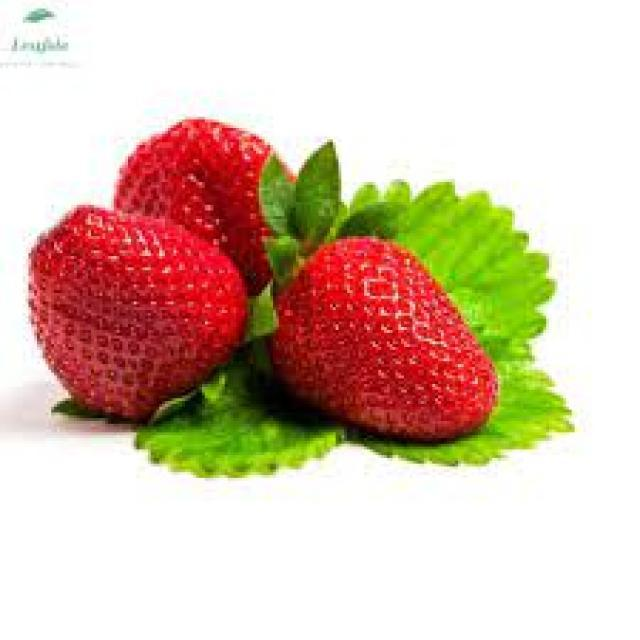Fruta sana: (30, 210, 251, 428), (288, 242, 498, 436), (109, 119, 308, 297)
